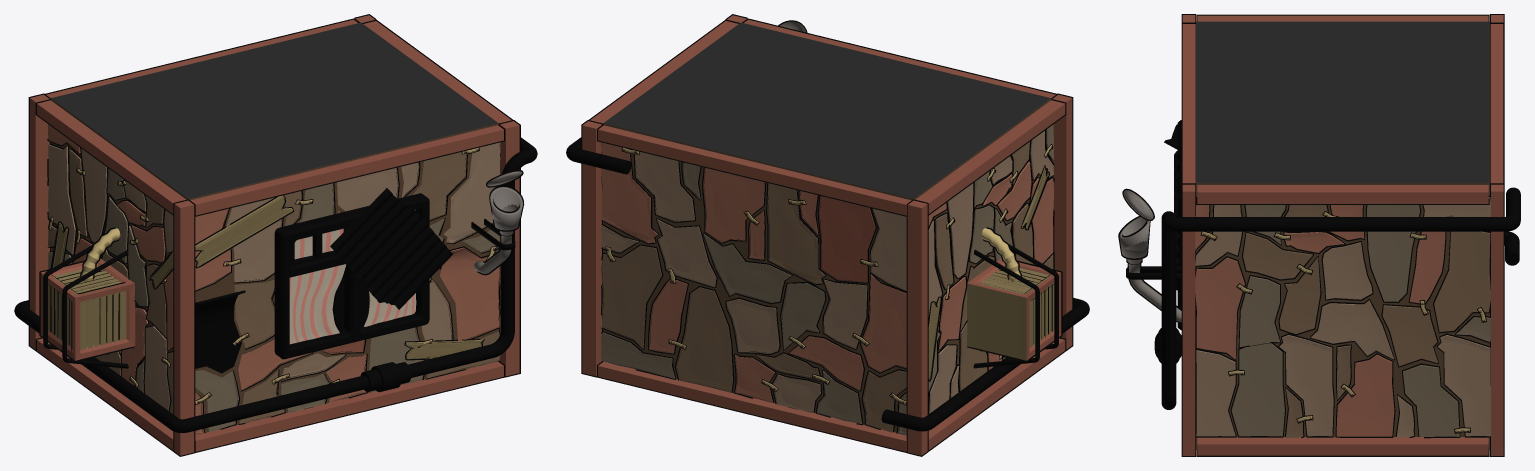
The model's file is Tawer1L.fbx.
3 views of the same model, side by side, from view 1: azimuth 30°, elevation 25°; view 2: azimuth 150°, elevation 25°; view 3: azimuth 270°, elevation 25° (orthographic). The views are drawn at different scales.
Visible parts, largest first — view 1: Cylinder, Cube; view 2: Cylinder, Cube; view 3: Cylinder, Cube.
Boxes of the visible parts, box(x1,y1,x2,y2) form: Cylinder: box(14, 14, 537, 456); Cube: box(50, 22, 498, 435); Cylinder: box(566, 14, 1089, 456); Cube: box(603, 22, 1051, 432); Cylinder: box(1118, 14, 1520, 456); Cube: box(1196, 21, 1489, 449).
Bounding box in the file's own units: 339 × 200 × 274.
